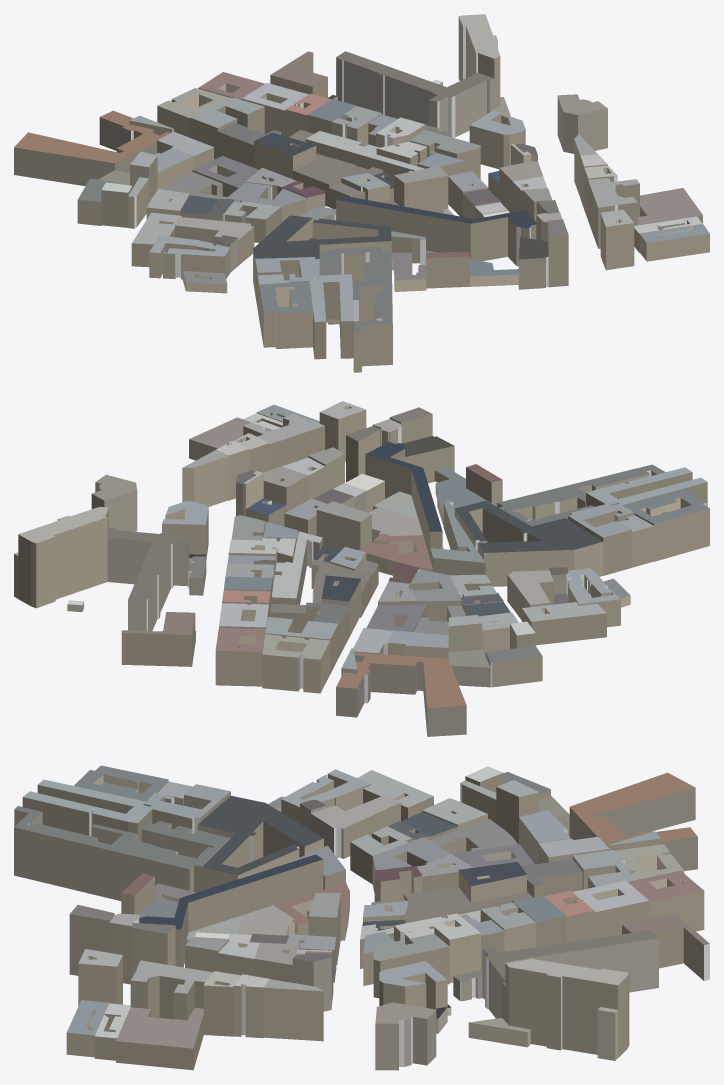
3 views of the same model, one above another, from view 1: azimuth 30°, elevation 25°; view 2: azimuth 150°, elevation 25°; view 3: azimuth 270°, elevation 25° (orthographic). The views are drawn at different scales.
Visible parts, largest first — view 1: tuile; view 2: tuile; view 3: tuile.
Part boxes in pixels (left/top/right/bottom): tuile: left=14, top=14, right=709, bottom=372; tuile: left=14, top=401, right=709, bottom=736; tuile: left=14, top=765, right=709, bottom=1070.
Size of the model in its own units: 274 by 42.36 by 295.
